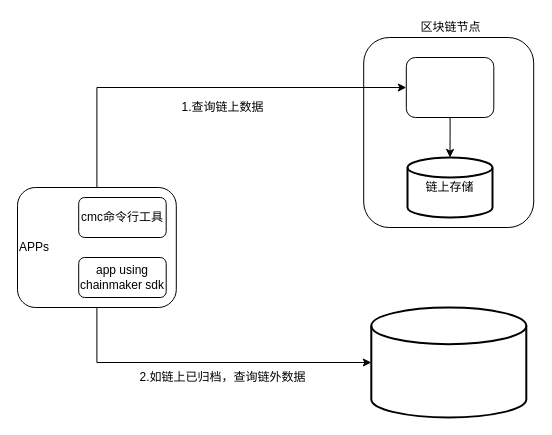
This 552x435 diagram has some shape labels left out. The centre of each missing label's shape, as x and y in pixels:
"RPC server" belongs at [449,87].
"链外存储" belongs at [448,362].
